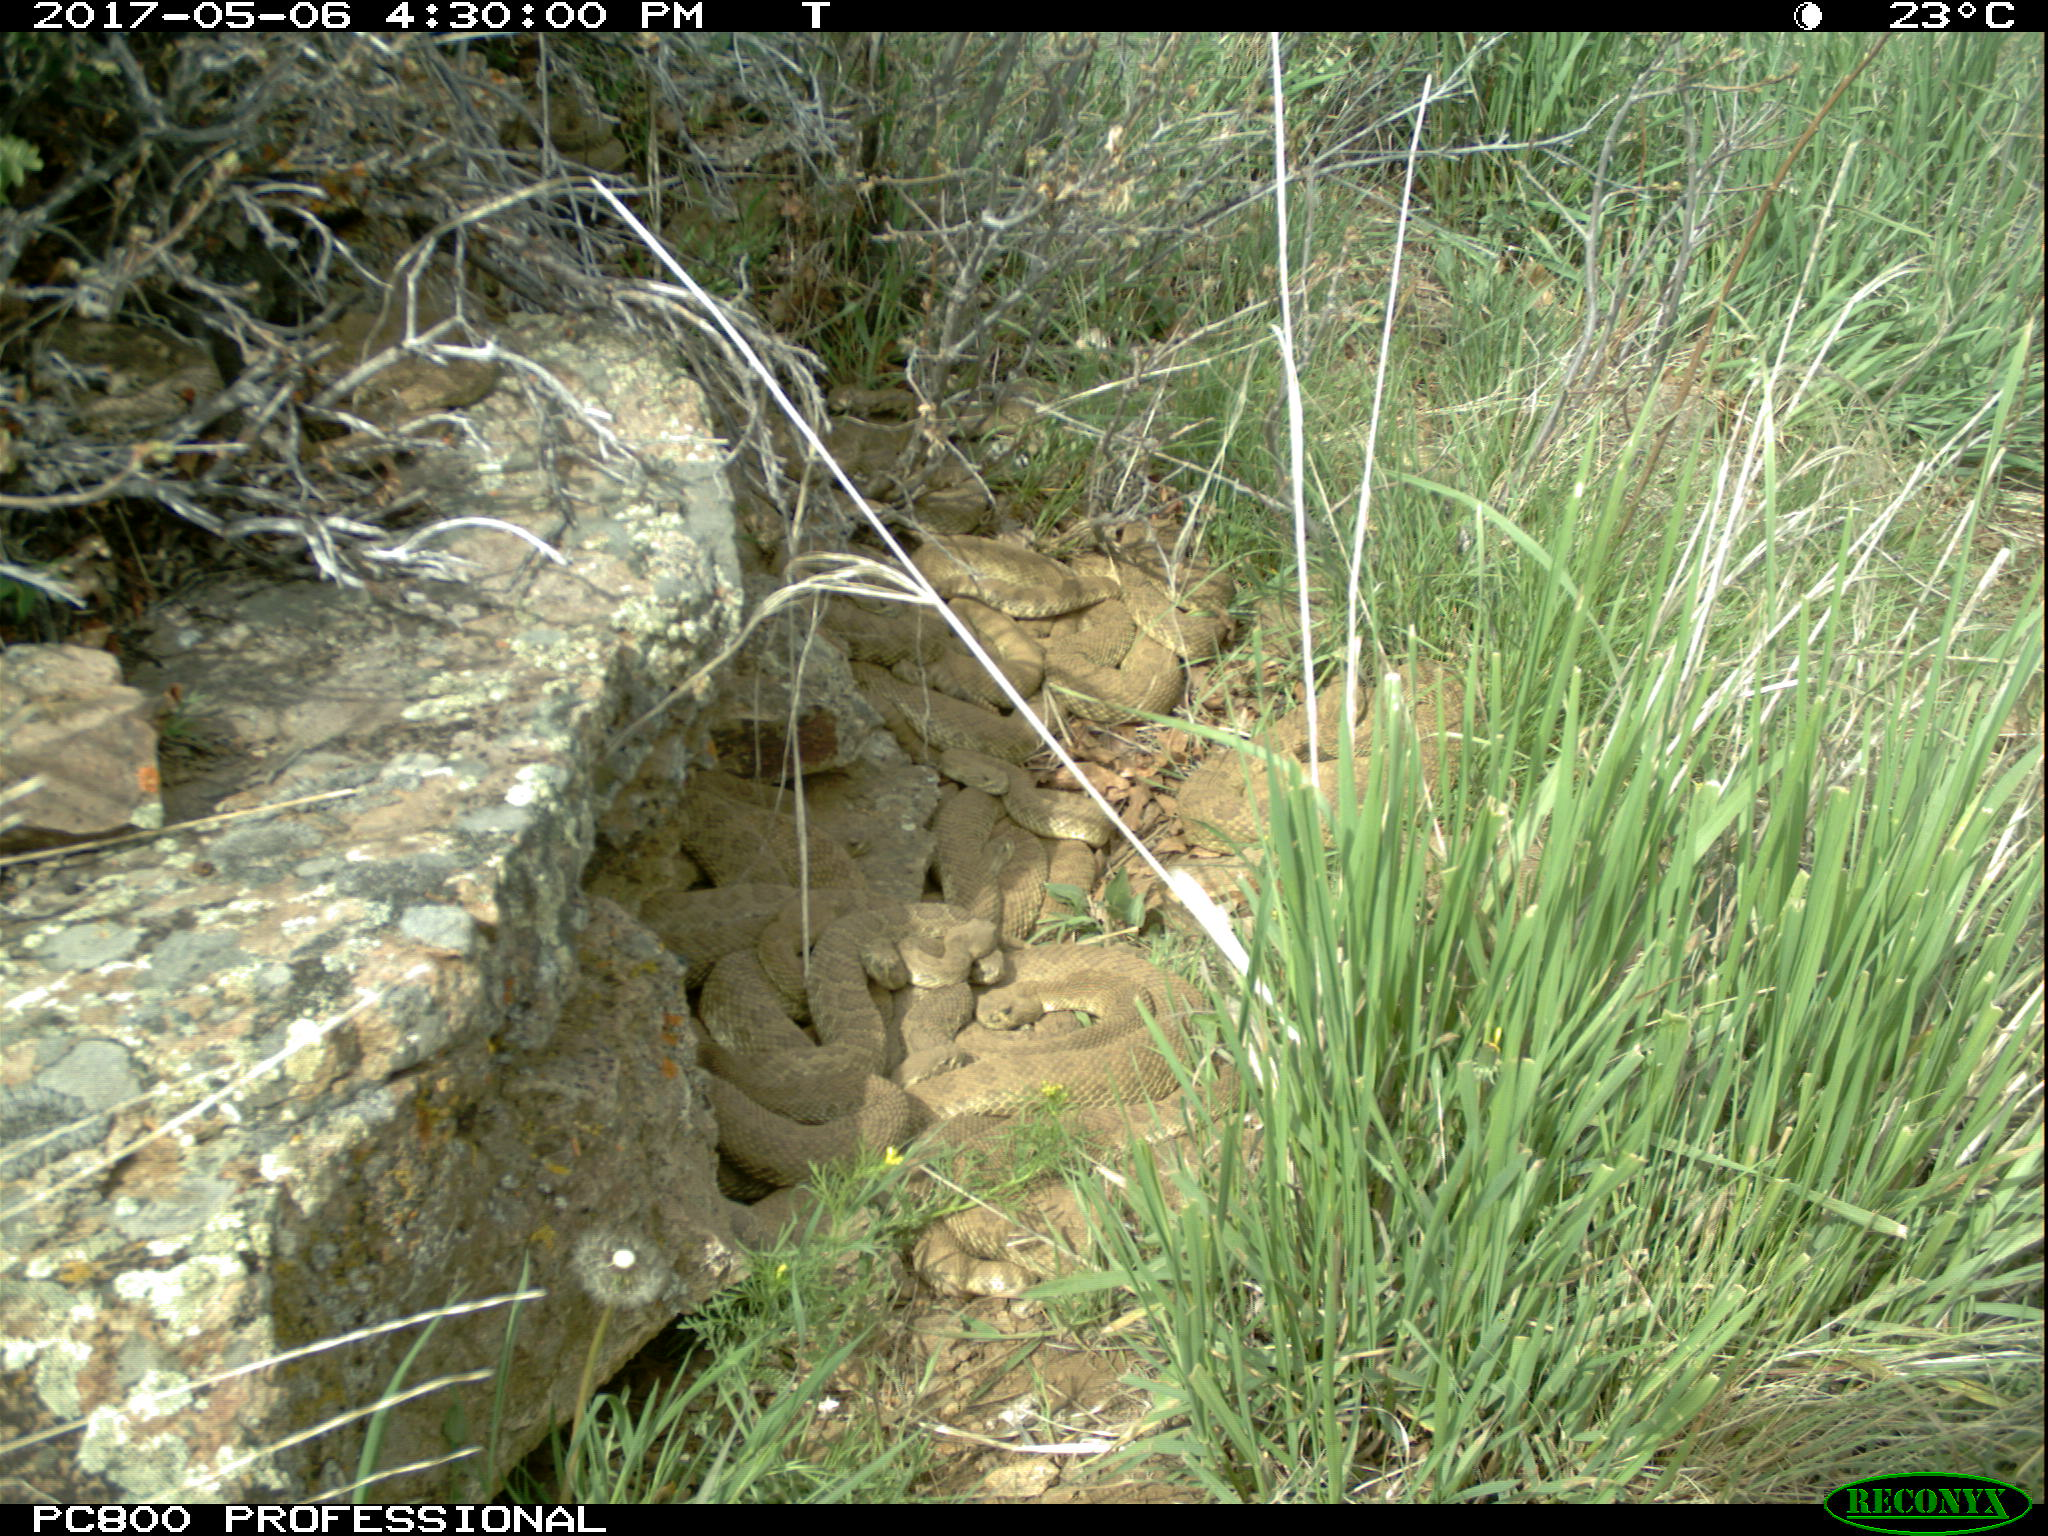snake: (689, 904, 1214, 1184), (818, 532, 1238, 713), (1168, 647, 1487, 858), (651, 765, 880, 975), (898, 713, 1121, 918), (824, 384, 1080, 497)
